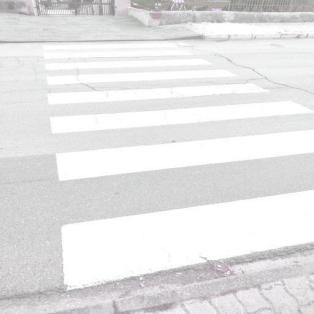Paso de Cebra: (48, 127, 314, 293), (40, 68, 281, 109), (40, 36, 195, 61)
